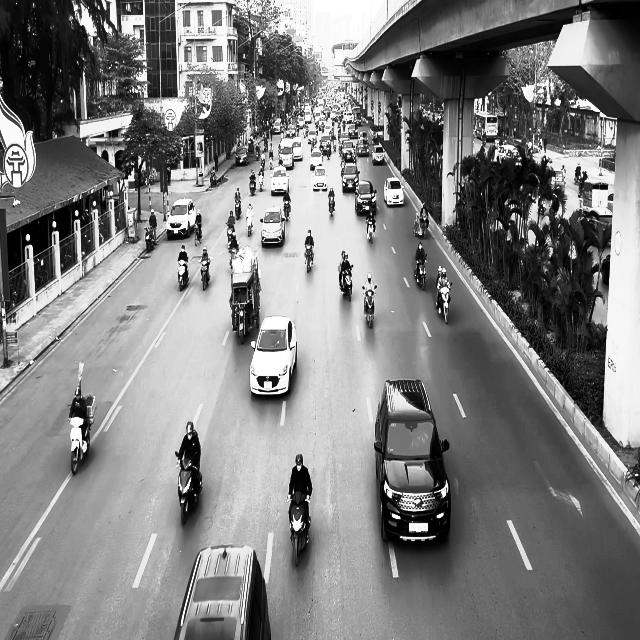bus: (473, 111, 508, 142)
car: (374, 378, 451, 543), (173, 544, 271, 639), (249, 316, 297, 396), (166, 198, 196, 240), (580, 207, 612, 245), (260, 206, 284, 247), (354, 180, 376, 215), (384, 177, 404, 206), (270, 166, 290, 195), (342, 163, 360, 192), (312, 165, 328, 191), (371, 144, 385, 165), (235, 146, 249, 165)
motorbike: (175, 450, 203, 525), (286, 494, 310, 566), (436, 282, 452, 324), (362, 285, 376, 328), (339, 264, 353, 301), (198, 256, 212, 290), (414, 256, 427, 290), (413, 213, 428, 238), (177, 260, 189, 291), (304, 244, 314, 273), (144, 226, 155, 252), (366, 216, 376, 243), (194, 222, 202, 247), (234, 198, 242, 219), (328, 194, 335, 217), (246, 213, 253, 236), (283, 198, 290, 220), (249, 177, 256, 195), (210, 171, 217, 187)
truck: (229, 246, 261, 344)
